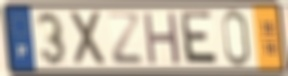0: (221, 7, 252, 70)
3: (35, 11, 69, 67)
E: (180, 10, 221, 68)
H: (141, 9, 183, 68)
X: (68, 8, 109, 68)
Z: (106, 10, 145, 67)
